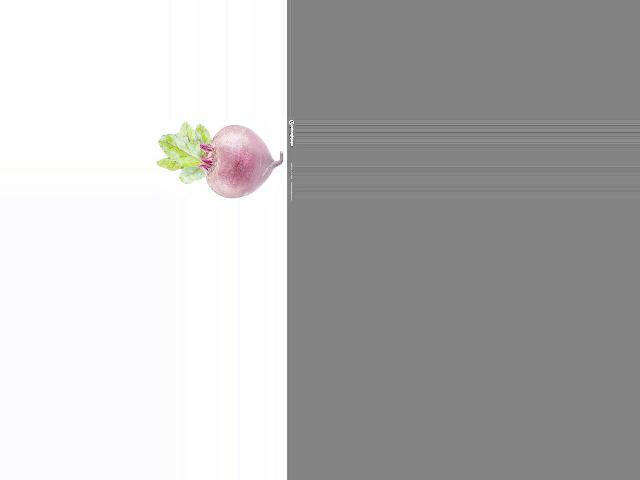beet: (156, 122, 282, 199)
